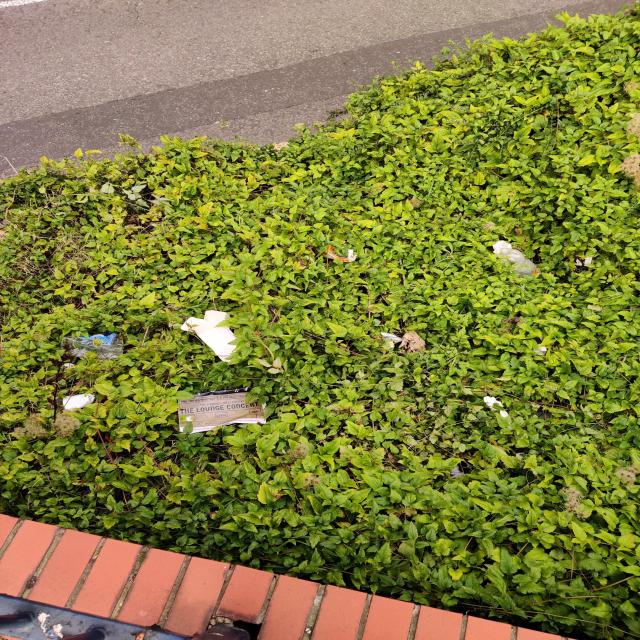litter: (170, 295, 270, 369), (169, 382, 278, 444), (486, 229, 558, 291)
